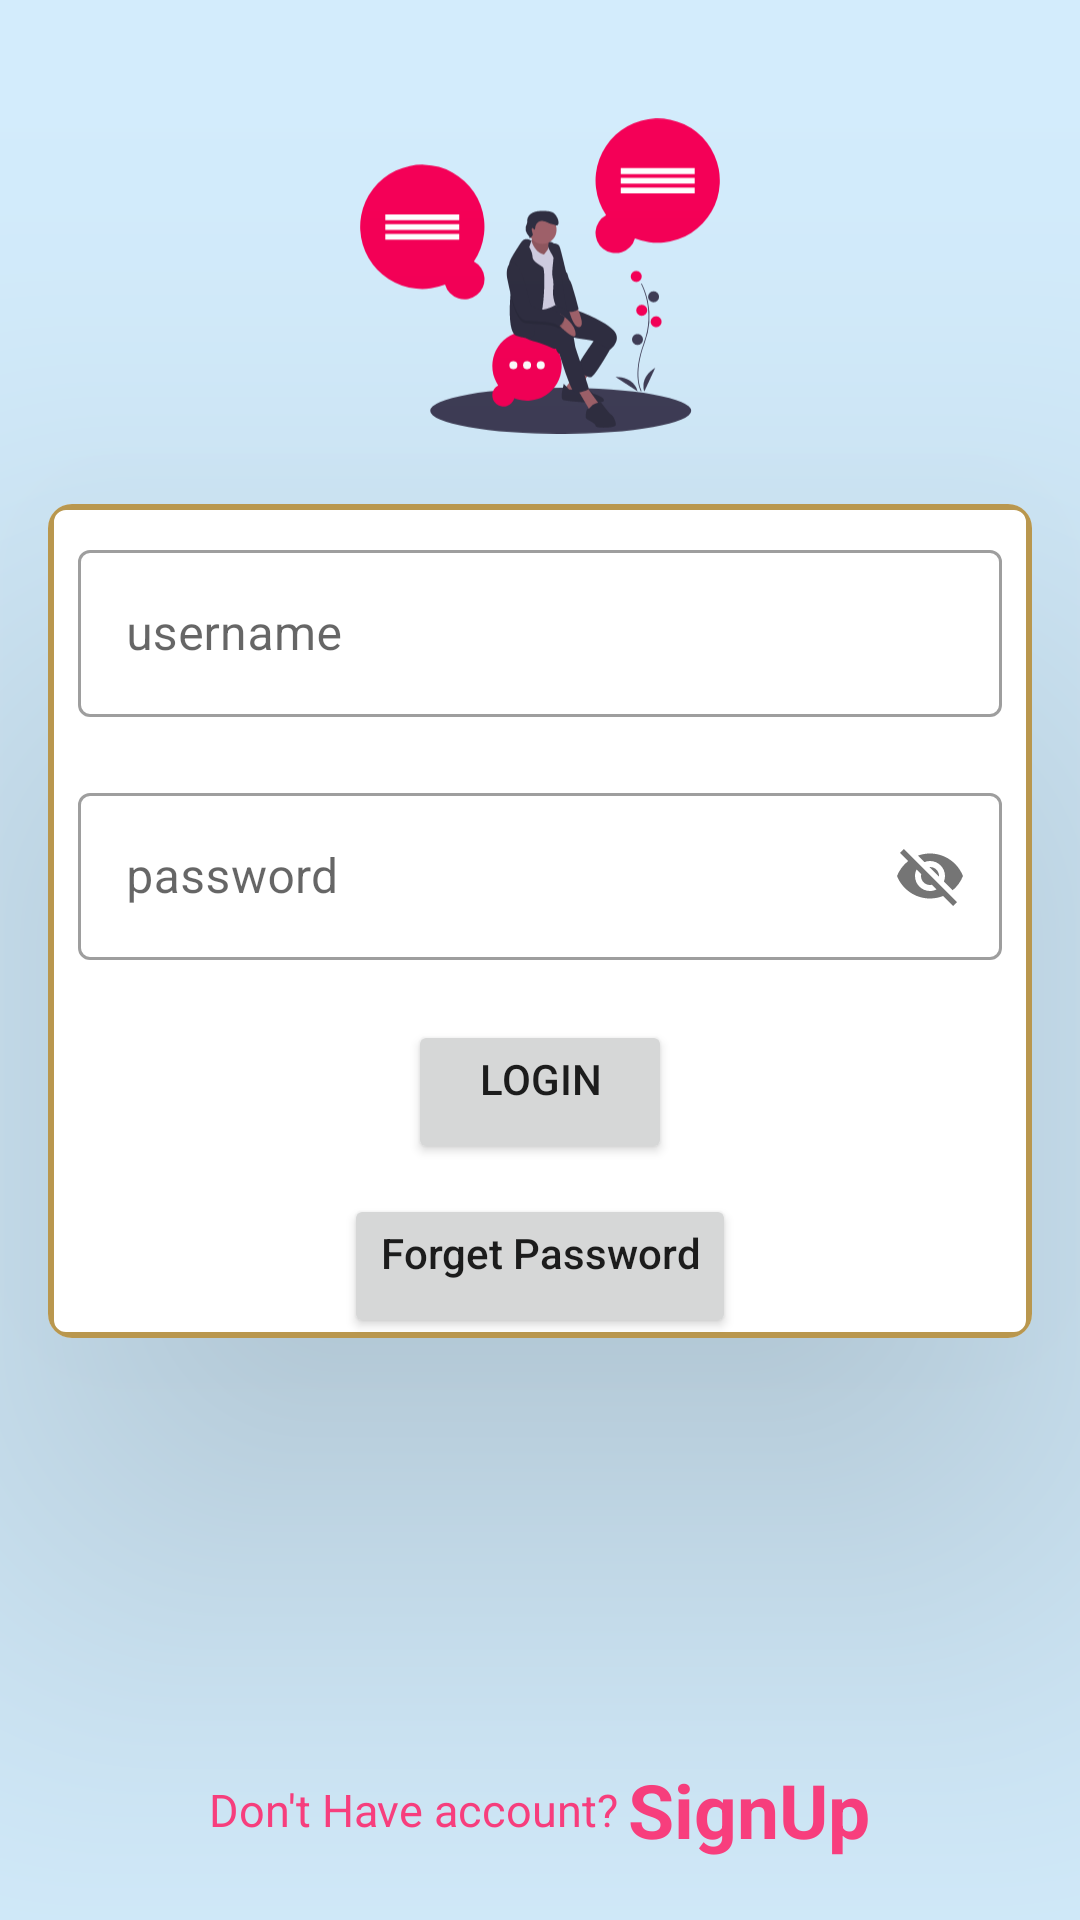

Locate icon controls on the screen. Image size 1080*1920, boxes as (x1, y1, x2, y2).
undrawprofile: (360, 118, 720, 434)
